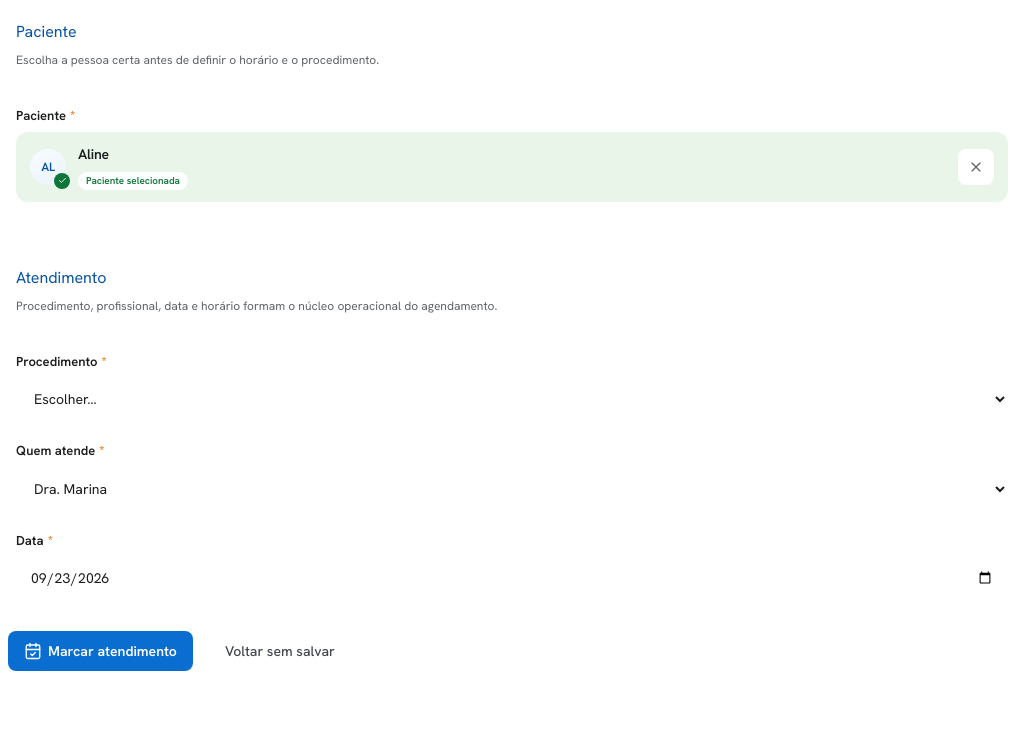
FormularioAtendimento › escolher o procedimento preenche duração e valor da tabela
Select "Toxina" in the dropdown labelled "Procedimento*" at [512, 399], box [16, 377, 1008, 421]
(page scrolled)
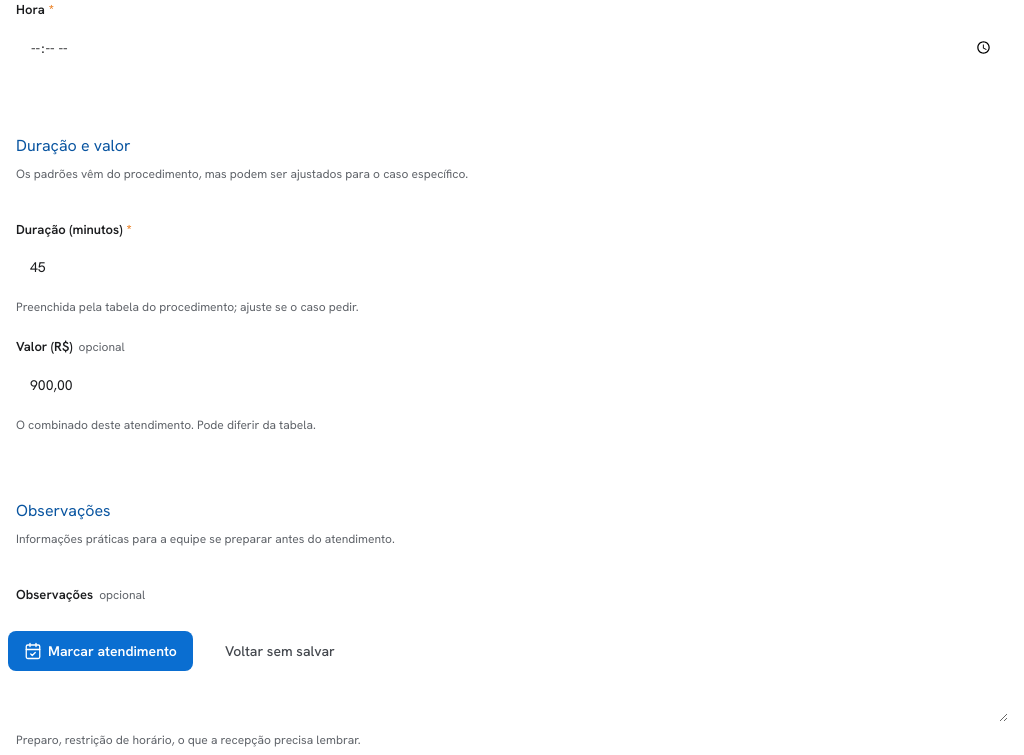
Now the number field labelled "Duração (minutos)*" holds "45", box [16, 245, 1008, 289]
Now the field labelled "Valor (R$)opcional" holds "900,00", box [16, 363, 1008, 407]
